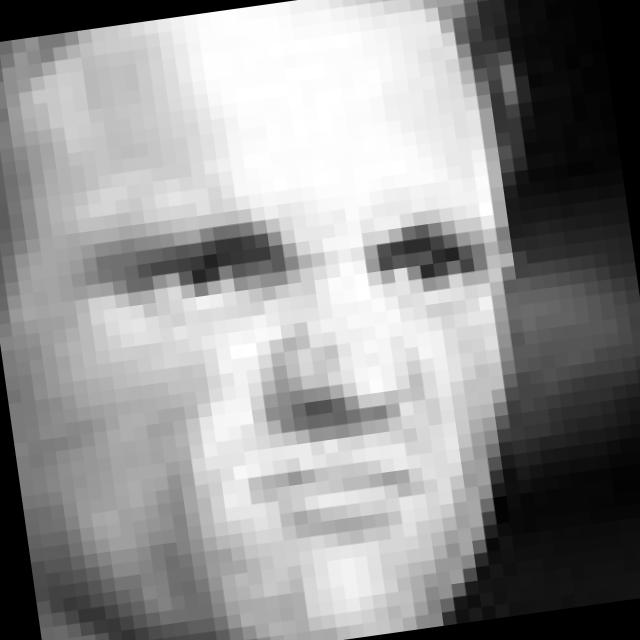disgust: (104, 173, 526, 582)
